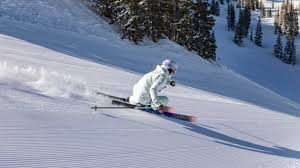skis: (101, 89, 199, 125)
